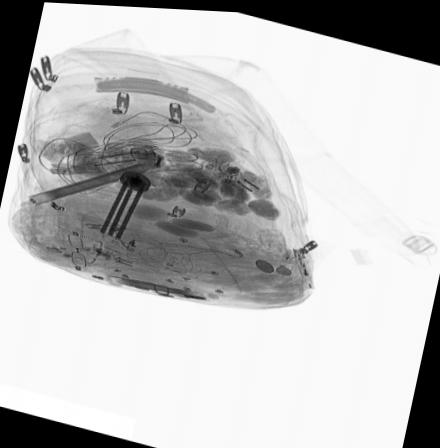Lighter: (290, 244, 314, 285)
